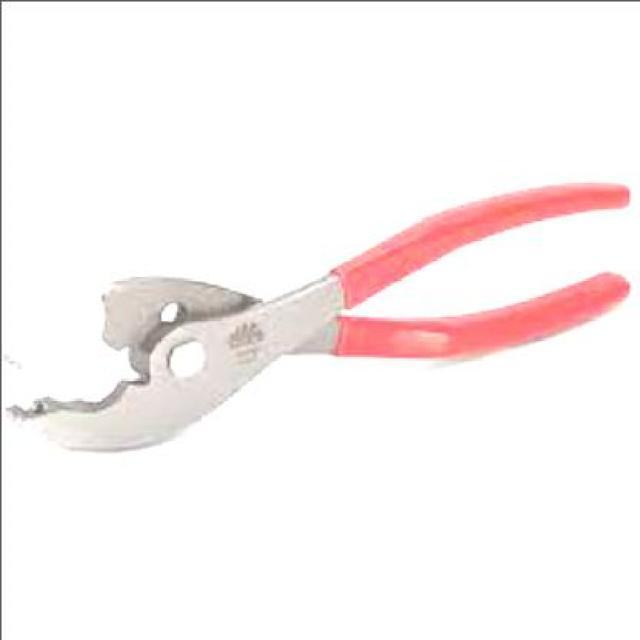pliers: (1, 146, 638, 480)
